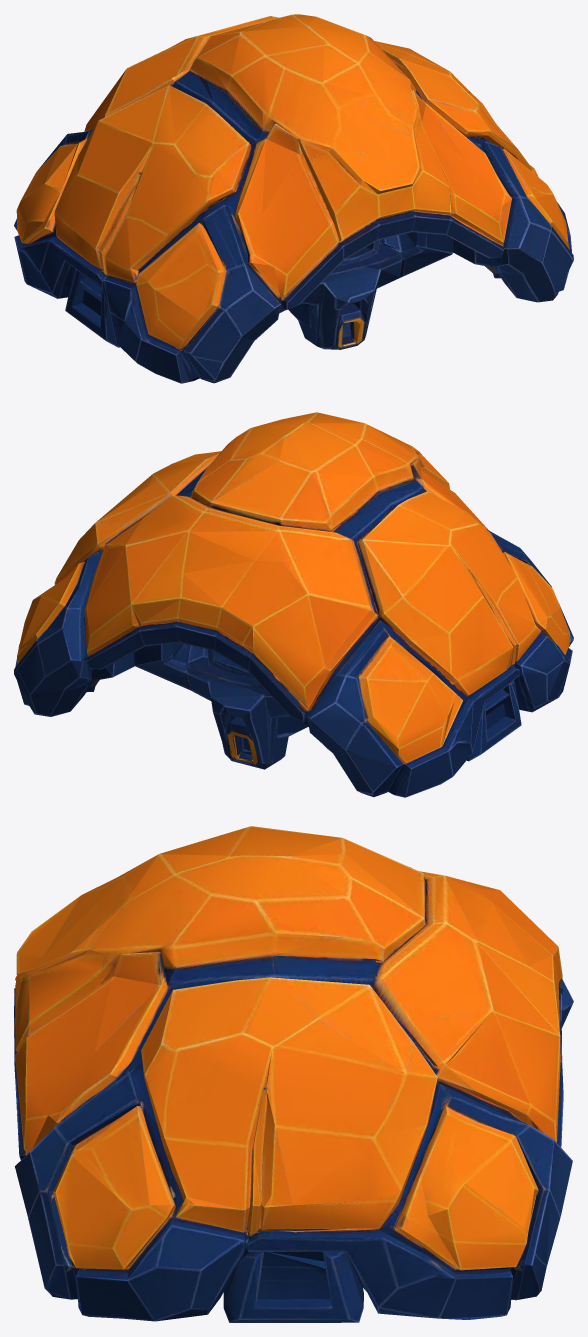
The picture shows the model from 3 angles, top to bottom: view 1: azimuth 30°, elevation 25°; view 2: azimuth 150°, elevation 25°; view 3: azimuth 270°, elevation 25°; orthographic projection. The views are drawn at different scales.
Visible parts, largest first — view 1: output_unwrapped; view 2: output_unwrapped; view 3: output_unwrapped.
Boxes of the visible parts, x1,y1,x2,y2 form: output_unwrapped: (14, 14, 573, 383); output_unwrapped: (14, 412, 573, 797); output_unwrapped: (14, 826, 573, 1322).
Size of the model in its own units: 1.9 by 1.21 by 1.55.
Materials: 1 (1 with a texture image).
